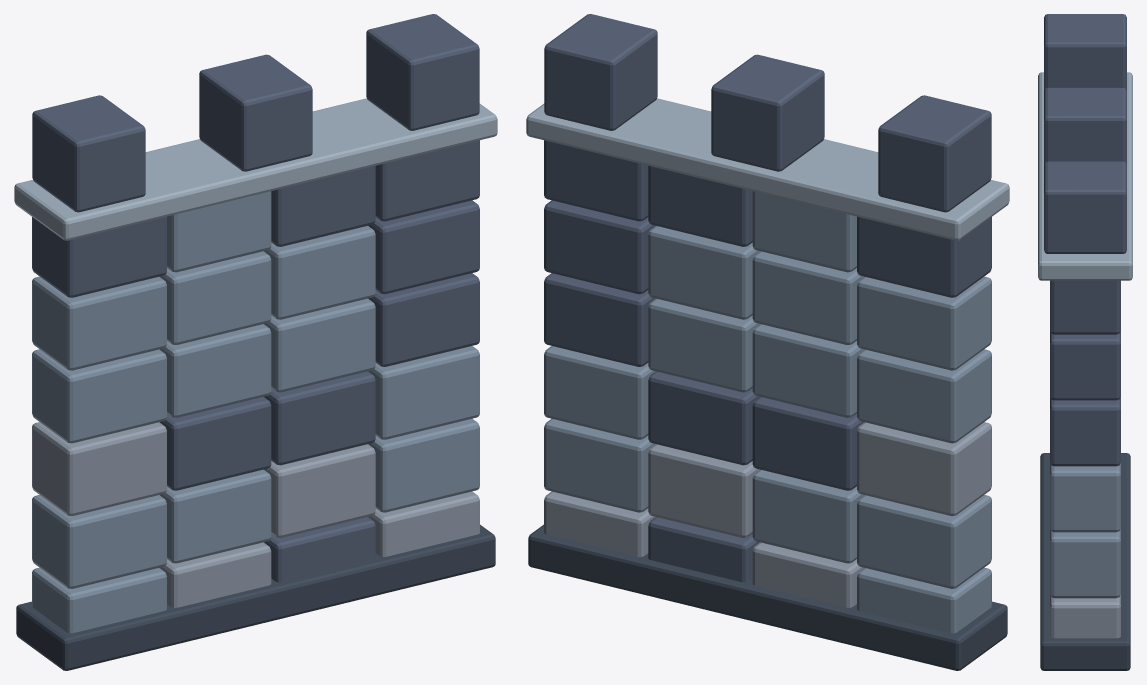
Rendered from wall.glb.
3 renders of one model, left to right at view 1: azimuth 30°, elevation 25°; view 2: azimuth 150°, elevation 25°; view 3: azimuth 270°, elevation 25°, orthographic. The views are drawn at different scales.
Visible parts, largest first — view 1: Wall_Cornice, Wall_Plinth, Wall_Crenellation.001, Wall_Crenellation.002, Wall_Crenellation, Wall_Masonry_4_0, Wall_Masonry_3_0, Wall_Masonry_2_0, Wall_Masonry_1_0, Wall_Masonry_5_0, Wall_Masonry_1_3, Wall_Masonry_2_2 (+17 smaller); view 2: Wall_Cornice, Wall_Plinth, Wall_Crenellation.001, Wall_Crenellation.002, Wall_Crenellation, Wall_Masonry_4_0, Wall_Masonry_3_0, Wall_Masonry_2_0, Wall_Masonry_1_0, Wall_Masonry_5_0, Wall_Masonry_1_3, Wall_Masonry_2_2 (+17 smaller); view 3: Wall_Crenellation.002, Wall_Plinth, Wall_Crenellation.001, Wall_Crenellation, Wall_Masonry_1_3, Wall_Masonry_4_3, Wall_Masonry_2_3, Wall_Masonry_3_3, Wall_Cornice, Wall_Masonry_5_3, Wall_Masonry_0_3.
Part boxes in pixels (bbox=[...]): Wall_Cornice: bbox=[14, 98, 497, 240]; Wall_Plinth: bbox=[16, 524, 495, 670]; Wall_Crenellation.001: bbox=[199, 54, 312, 171]; Wall_Crenellation.002: bbox=[366, 14, 479, 130]; Wall_Crenellation: bbox=[32, 95, 145, 212]; Wall_Masonry_4_0: bbox=[32, 276, 166, 370]; Wall_Masonry_3_0: bbox=[32, 349, 166, 443]; Wall_Masonry_2_0: bbox=[32, 422, 166, 515]; Wall_Masonry_1_0: bbox=[32, 495, 166, 588]; Wall_Masonry_5_0: bbox=[32, 216, 166, 297]; Wall_Masonry_1_3: bbox=[368, 418, 479, 512]; Wall_Masonry_2_2: bbox=[264, 371, 375, 465]; Wall_Cornice: bbox=[526, 98, 1009, 240]; Wall_Plinth: bbox=[528, 524, 1007, 670]; Wall_Crenellation.001: bbox=[711, 54, 824, 171]; Wall_Crenellation.002: bbox=[544, 14, 657, 130]; Wall_Crenellation: bbox=[878, 95, 991, 212]; Wall_Masonry_4_0: bbox=[857, 276, 991, 370]; Wall_Masonry_3_0: bbox=[857, 349, 991, 443]; Wall_Masonry_2_0: bbox=[857, 422, 991, 515]; Wall_Masonry_1_0: bbox=[857, 495, 991, 588]; Wall_Masonry_5_0: bbox=[857, 216, 991, 297]; Wall_Masonry_1_3: bbox=[544, 418, 655, 512]; Wall_Masonry_2_2: bbox=[648, 371, 759, 465]; Wall_Crenellation.002: bbox=[1044, 161, 1126, 253]; Wall_Plinth: bbox=[1040, 453, 1130, 670]; Wall_Crenellation.001: bbox=[1044, 87, 1126, 164]; Wall_Crenellation: bbox=[1044, 14, 1126, 90]; Wall_Masonry_1_3: bbox=[1050, 528, 1120, 598]; Wall_Masonry_4_3: bbox=[1050, 331, 1120, 400]; Wall_Masonry_2_3: bbox=[1050, 463, 1120, 532]; Wall_Masonry_3_3: bbox=[1050, 397, 1120, 466]; Wall_Cornice: bbox=[1038, 72, 1132, 280]; Wall_Masonry_5_3: bbox=[1050, 280, 1120, 334]; Wall_Masonry_0_3: bbox=[1050, 594, 1120, 638].
Size of the model in its own units: 4.16 by 4.81 by 0.87.
